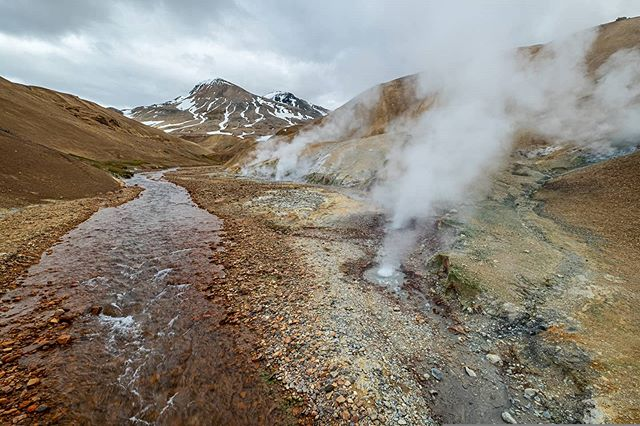mountain: (151, 50, 318, 113)
river: (37, 165, 466, 426)
sky: (4, 1, 538, 96)
smoke: (358, 1, 615, 280)
